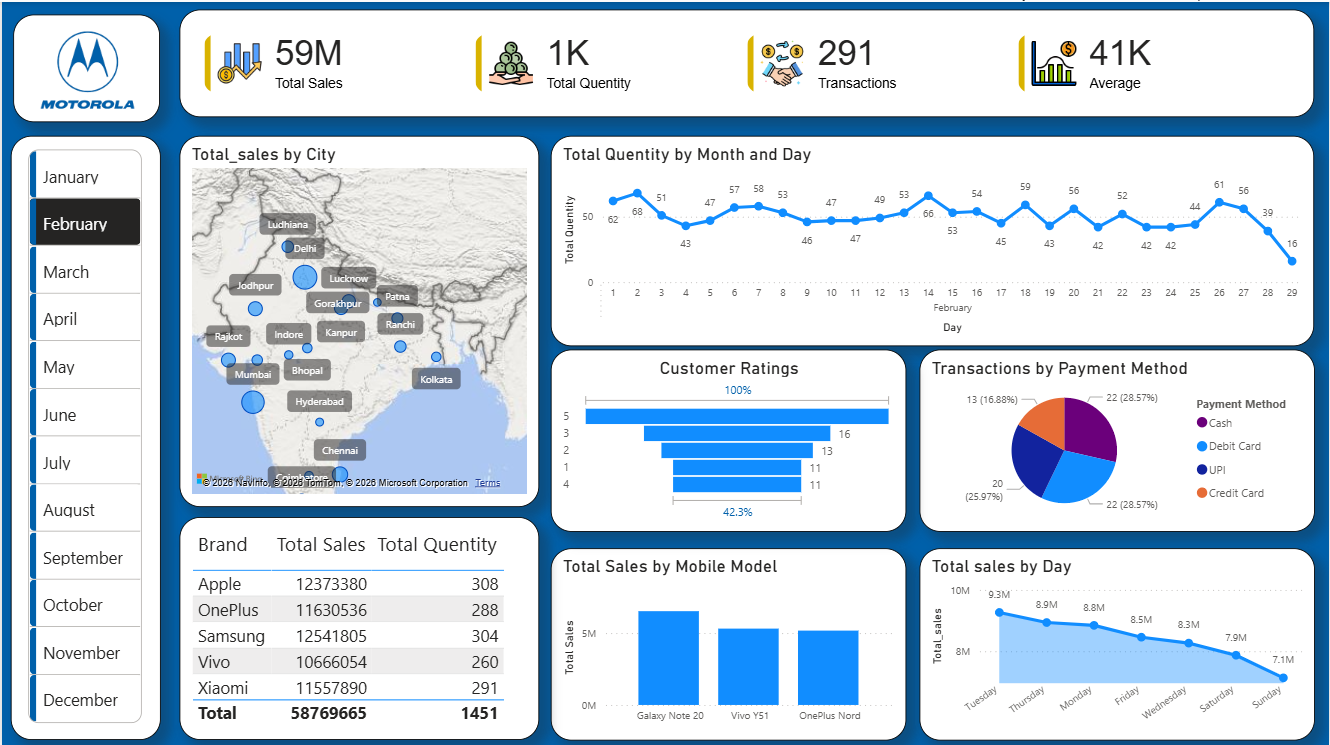

What the dashboard file says about the page in this screenshot:
{"tool":"powerbi","page":{"name":"Page 2","canvas":[1280,720],"ordinal":0},"visuals":[{"type":"shape","box":[11.1,12.5,141.9,104.3],"z":0},{"type":"image","box":[32,20.9,100.2,90.4],"z":1000},{"type":"shape","box":[8.3,129.4,144.7,583],"z":2000},{"type":"advancedSlicerVisual","fields":{"Values":["Sheet1.Date.Variation.Date Hierarchy.Month"]},"box":[20.9,137.7,119.7,566.3],"z":3000},{"type":"cardVisual","fields":{"Data":["Sales_data.Total_sales","Sales_data.Total_quentity","Sales_data.Transactions","Sales_data.Average"]},"box":[171.5,6.9,1095,104.3],"z":4000},{"type":"map","fields":{"Category":["Sales_data.City"],"Size":["Sales_data.Total_sales"]},"box":[171.5,129,347.2,358.1],"z":4001},{"type":"lineChart","fields":{"Category":["Sales_data.Date.Variation.Date Hierarchy.Month","Sales_data.Date.Variation.Date Hierarchy.Day"],"Y":["Sales_data.Total_quentity"]},"box":[529.7,129,736.9,203.1],"z":4002},{"type":"clusteredColumnChart","fields":{"Category":["Sales_data.Mobile Model"],"Y":["Sales_data.Total_sales"]},"box":[529.7,526.9,343.1,185.2],"z":4003},{"type":"pieChart","fields":{"Category":["Sales_data.Payment Method"],"Y":["Sales_data.Transactions"]},"box":[885.1,334.8,381.5,175.6],"z":4004},{"type":"funnel","title":"Customer Ratings ","fields":{"Category":["Sales_data.Customer Ratings"],"Y":["CountNonNull(Sales_data.Customer Ratings)"]},"box":[529.7,334.8,343.1,175.6],"z":4005},{"type":"areaChart","title":"Total sales by Day ","fields":{"Category":["Sales_data.Day Name"],"Y":["Sales_data.Total_sales"]},"box":[885.1,526.9,381.5,185.2],"z":4006},{"type":"tableEx","fields":{"Values":["Sales_data.Brand","Sales_data.Total_sales","Sales_data.Total_quentity"]},"box":[171.5,496.7,347.2,215.4],"z":4007}]}

Visuals, with their boxes in screenshot pixels (x1, y1, x2, y2), scaled from the page's 1280x720 canvas onto the 1330x745 screenshot:
shape: 12 13 159 121
image: 33 22 137 115
shape: 9 134 159 737
advancedSlicerVisual - Sheet1.Date.Variation.Date Hierarchy.Month: 22 142 146 728
cardVisual - Sales_data.Total_sales x Sales_data.Total_quentity: 178 7 1316 115
map - Sales_data.City x Sales_data.Total_sales: 178 133 539 504
lineChart - Sales_data.Date.Variation.Date Hierarchy.Month x Sales_data.Date.Variation.Date Hierarchy.Day: 550 133 1316 344
clusteredColumnChart - Sales_data.Mobile Model x Sales_data.Total_sales: 550 545 907 737
pieChart - Sales_data.Payment Method x Sales_data.Transactions: 920 346 1316 528
"Customer Ratings " funnel: 550 346 907 528
"Total sales by Day " areaChart: 920 545 1316 737
tableEx - Sales_data.Brand x Sales_data.Total_sales: 178 514 539 737
